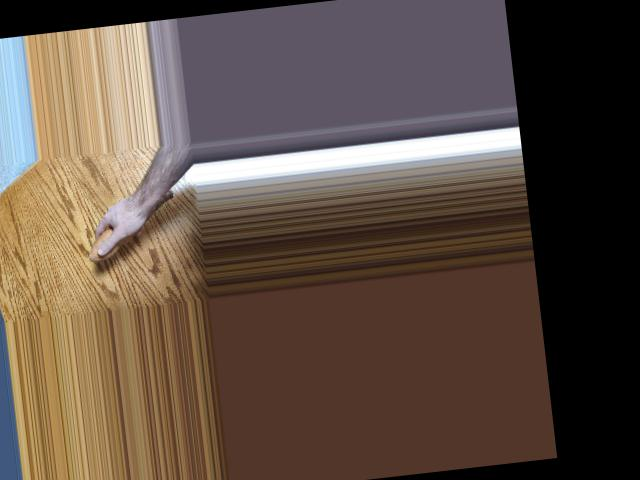sweet_potato: (82, 188, 182, 263)
